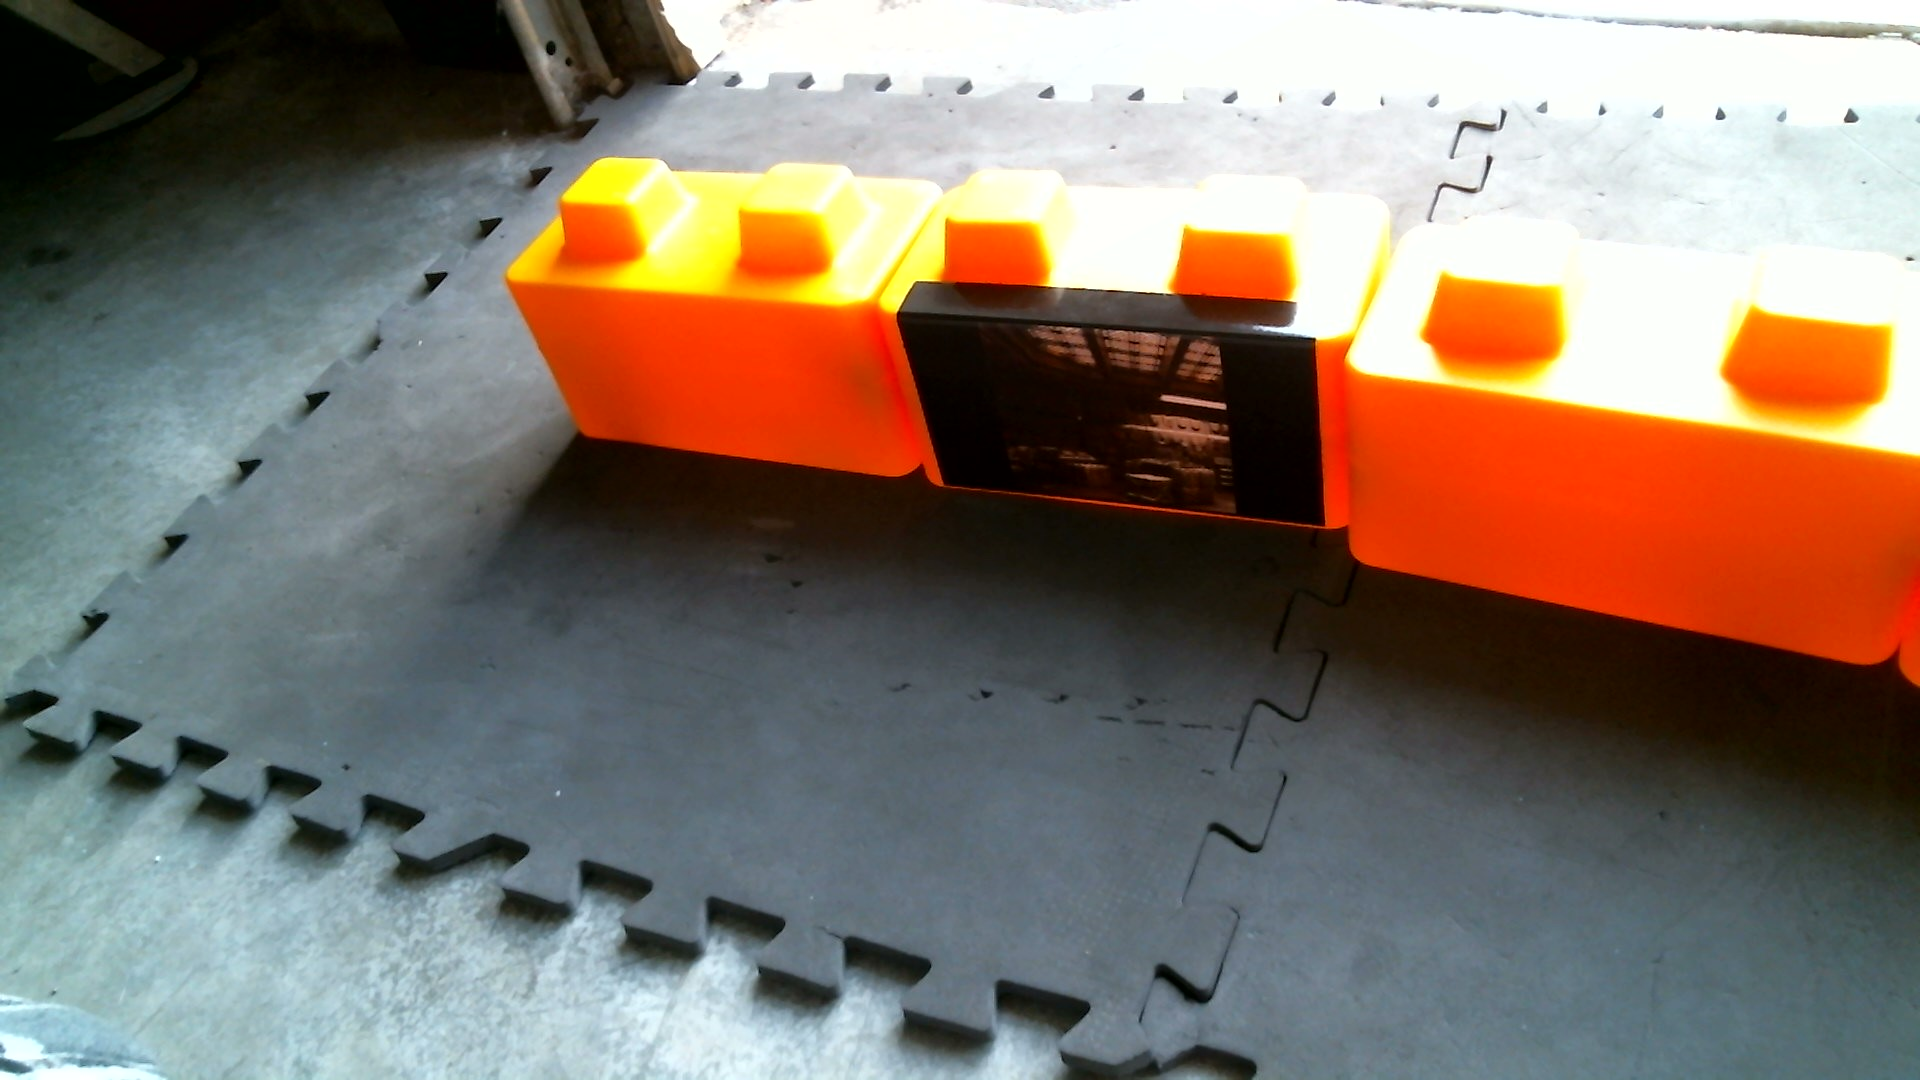center: (502, 127, 1920, 661)
